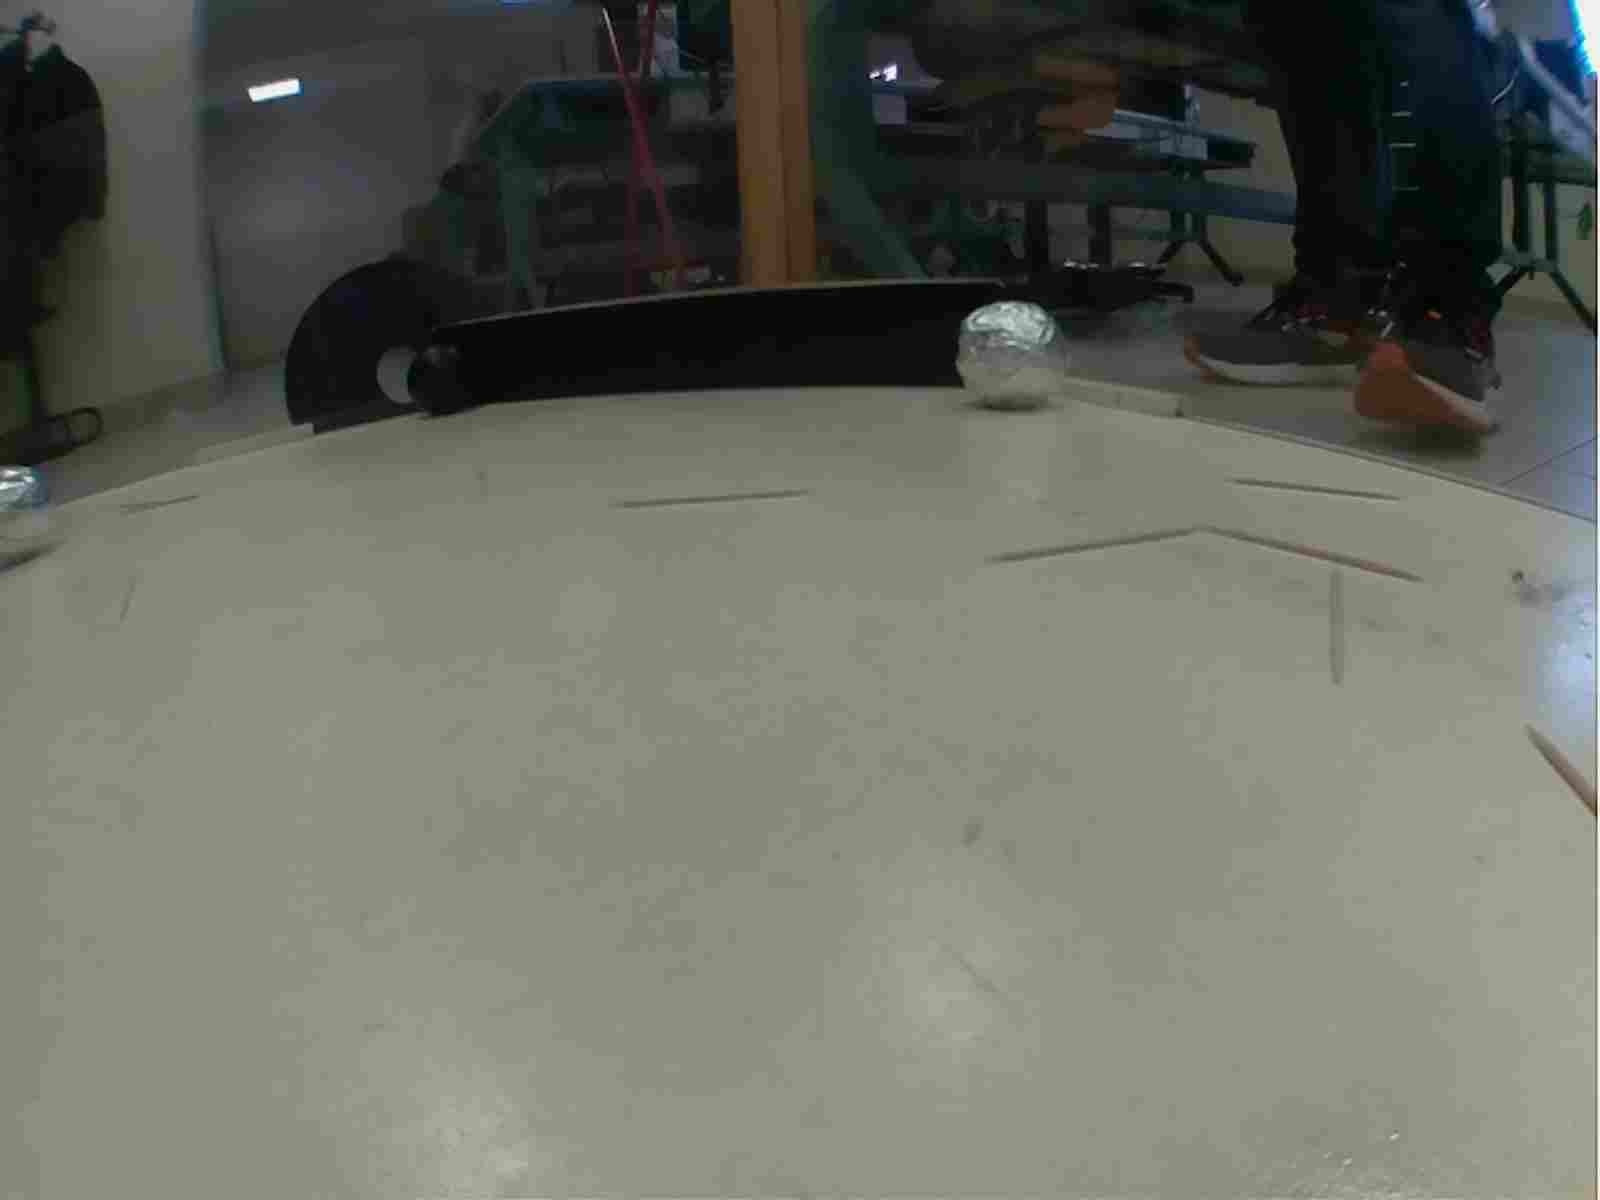bianca: (951, 303, 1071, 415), (1, 458, 67, 572)
nera: (406, 338, 488, 418)
